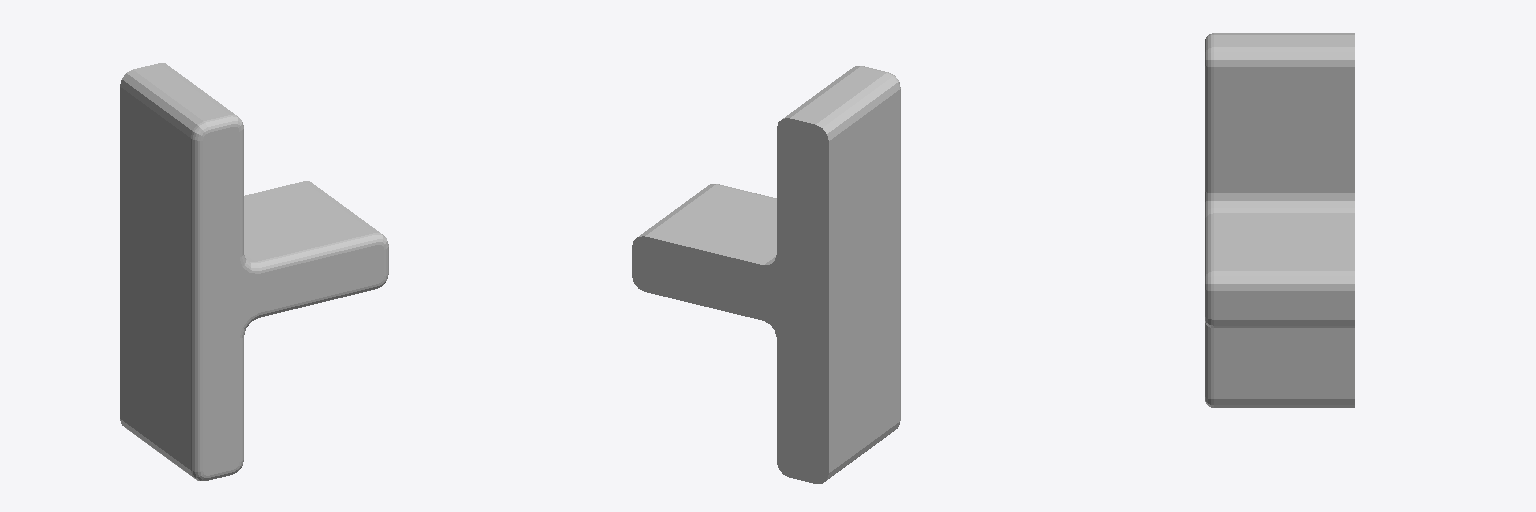
Rendered from 2_Sideways_T_Wall.obj.
3 views of the same model, side by side, from view 1: azimuth 30°, elevation 25°; view 2: azimuth 150°, elevation 25°; view 3: azimuth 270°, elevation 25° (orthographic).
Visible parts, largest first — view 1: Sideways_T_Wall_Plane.015; view 2: Sideways_T_Wall_Plane.015; view 3: Sideways_T_Wall_Plane.015.
Part boxes in pixels (bbox=[...]): Sideways_T_Wall_Plane.015: bbox=[120, 63, 388, 480]; Sideways_T_Wall_Plane.015: bbox=[632, 66, 900, 483]; Sideways_T_Wall_Plane.015: bbox=[1205, 33, 1354, 407].
Bounding box in the file's own units: 7.55 × 13.16 × 5.